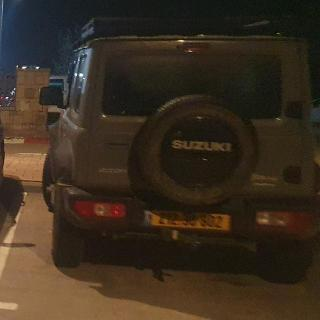LicensePlate: (151, 210, 231, 231)
